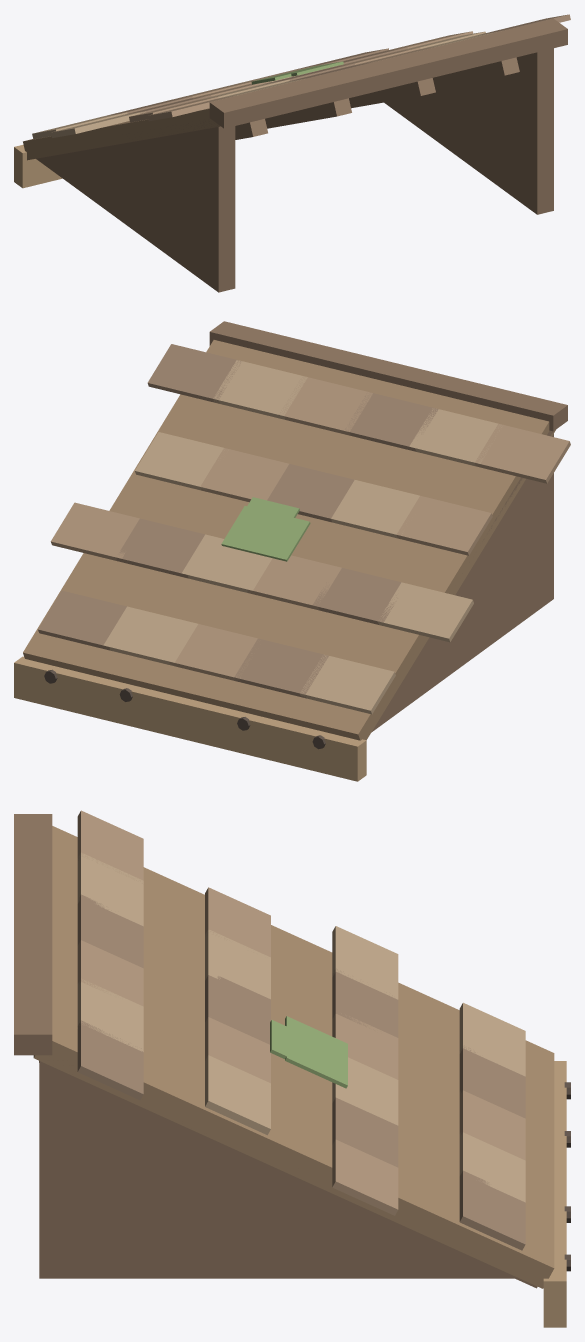
The model's file is reinf-roof.fbx.
The picture shows the model from 3 angles, top to bottom: view 1: azimuth 30°, elevation 25°; view 2: azimuth 150°, elevation 25°; view 3: azimuth 270°, elevation 25°; orthographic projection. The views are drawn at different scales.
Parts seen in each view (by area): view 1: RoofRamp; view 2: RoofRamp; view 3: RoofRamp.
Part boxes in pixels (bbox=[...]): RoofRamp: bbox=[14, 14, 570, 292]; RoofRamp: bbox=[14, 321, 570, 781]; RoofRamp: bbox=[14, 810, 570, 1327].
Bounding box in the file's own units: 4.75 × 2.54 × 4.37.
